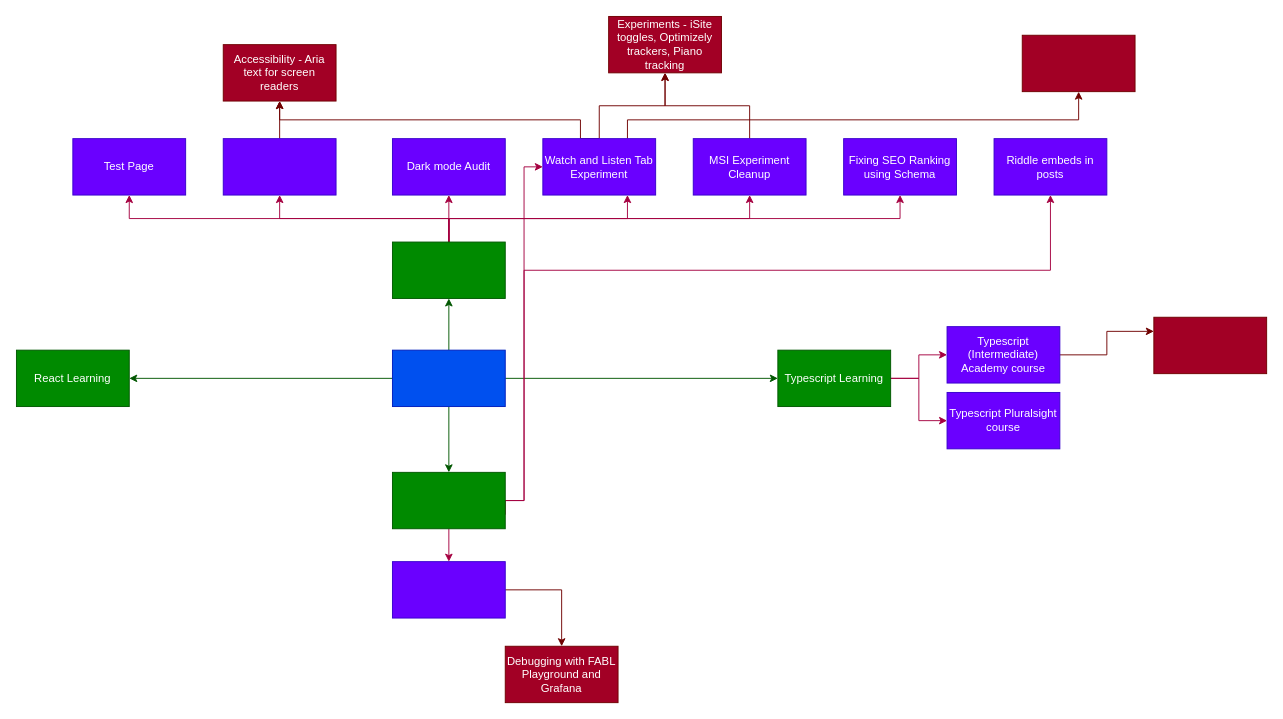
Some shapes in this 1283 by 719 pixel diagram are drawn without their labels. Here are the shapes that lost their labels. From the top down, the box of each, then its label:
(1021, 34, 1135, 92): Ticket Creation
(222, 138, 336, 195): AI Disclosure Icon
(392, 241, 505, 298): Web repo
(1153, 316, 1267, 374): Shareback
(392, 349, 505, 407): LIVE Team Rotation
(392, 471, 505, 529): FABL repo
(392, 561, 505, 618): LIVE Pages workshops
